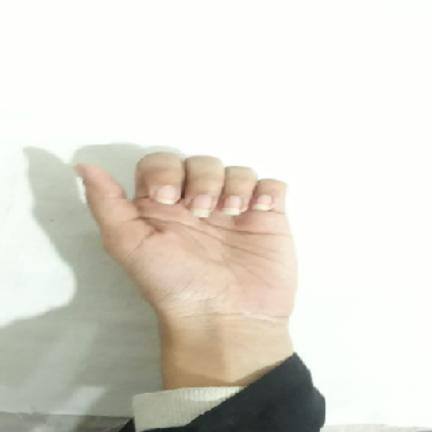Nail: (190, 194, 213, 218), (157, 185, 178, 204), (223, 196, 244, 215), (254, 194, 272, 211)
